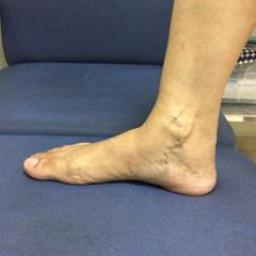Medial View -Right Foot-: (18, 84, 231, 205)
